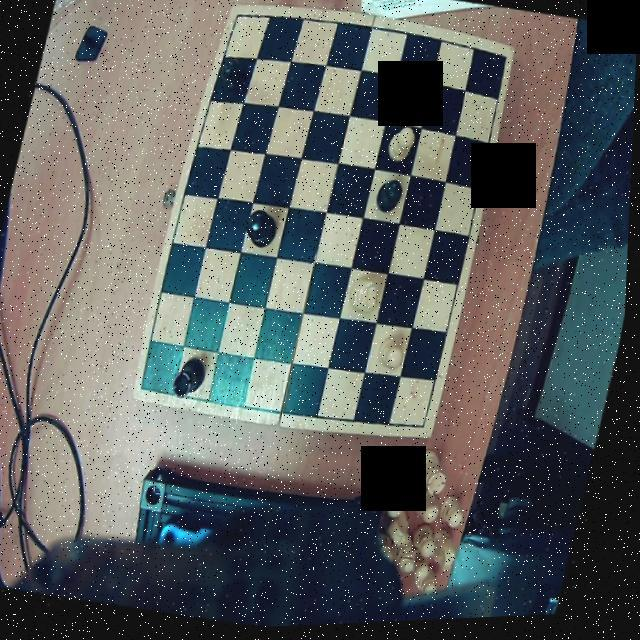chess-table-corners: (137, 373, 163, 403), (412, 417, 438, 444), (495, 50, 516, 80), (230, 6, 253, 31)
